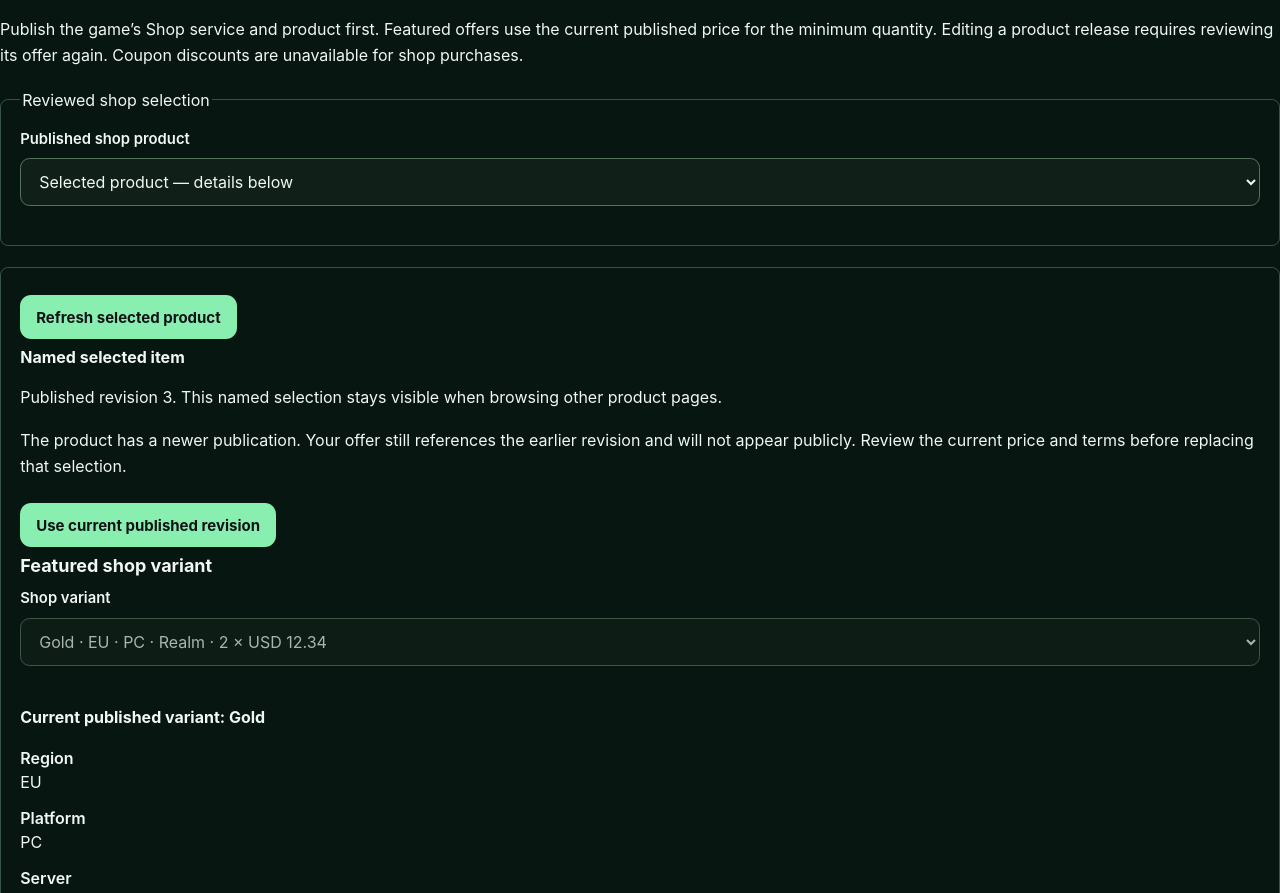
Test: requires an explicit replacement when the saved release has changed
Expected: the dropdown labelled "Shop variant" is disabled, [20, 618, 1260, 666]
Click the button "Use current published revision" at (148,525), box [20, 503, 276, 547]
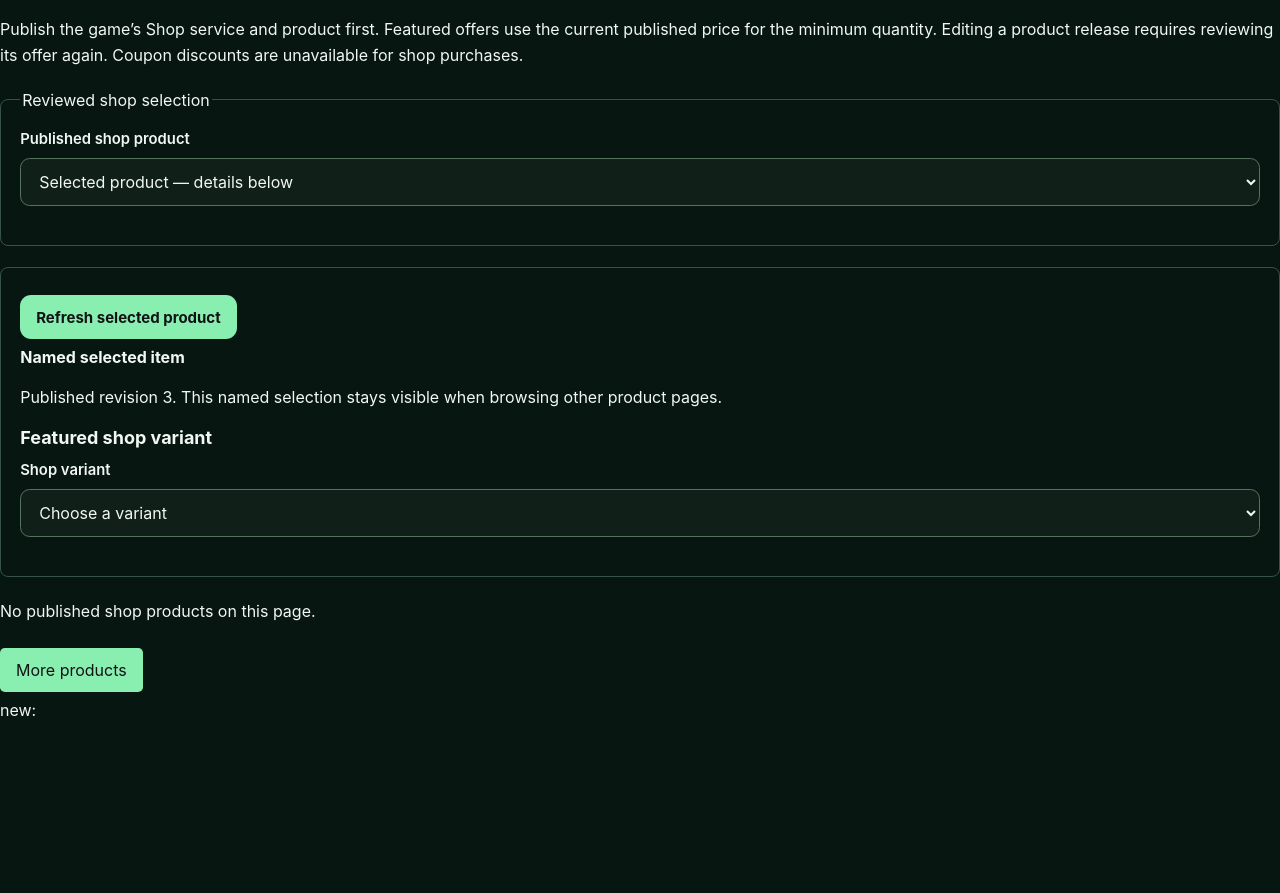
Expected: the dropdown labelled "Shop variant" is enabled, [20, 489, 1260, 537]
Result: the text "new:" is shown at [0, 700, 36, 720]
